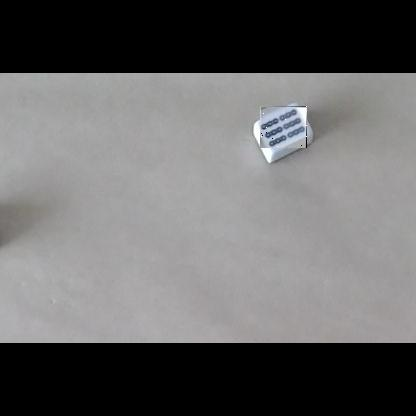6s: (260, 106, 307, 148)
